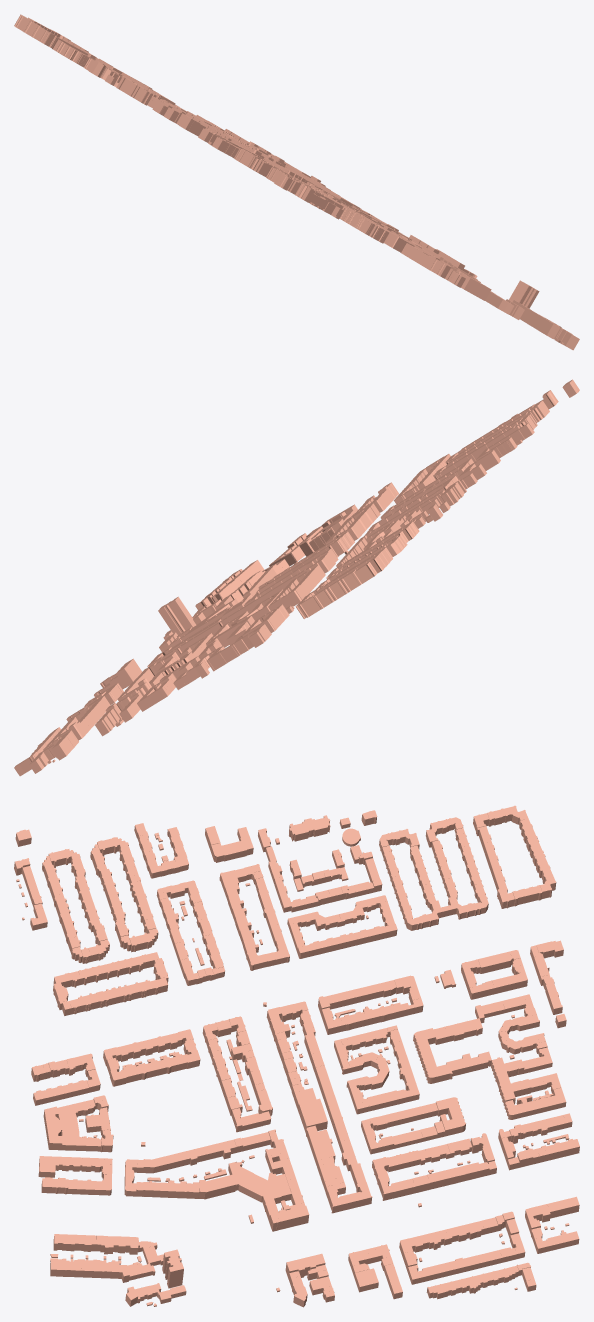
3 views of the same model, one above another, from view 1: azimuth 30°, elevation 25°; view 2: azimuth 150°, elevation 25°; view 3: azimuth 270°, elevation 25° (orthographic). The views are drawn at different scales.
Size of the model in its own units: 529 by 389 by 635.
